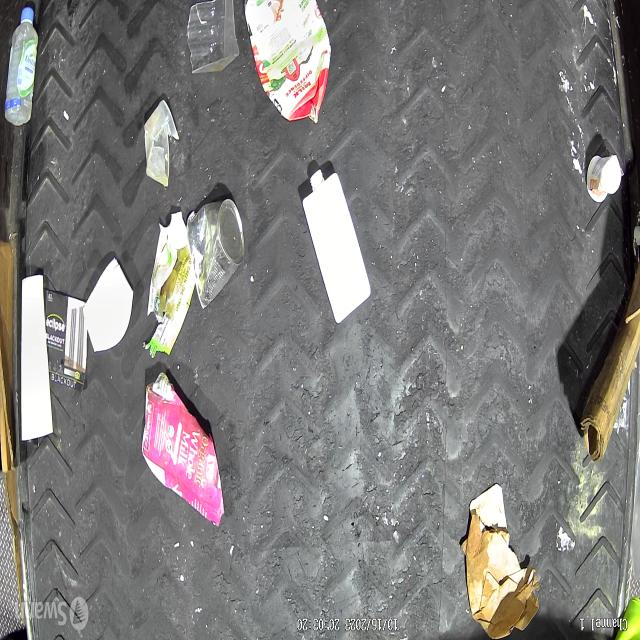can: (186, 199, 245, 310)
milk_jug: (302, 166, 371, 324)
non_white_jug: (242, 0, 330, 130)
plastic_bottle: (4, 5, 39, 127)
